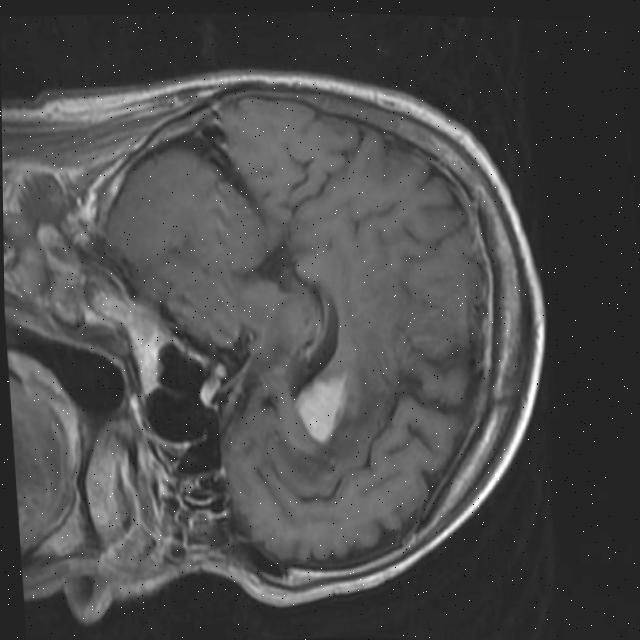Glioma: (291, 368, 352, 448)
Pituitary: (197, 363, 230, 414)
